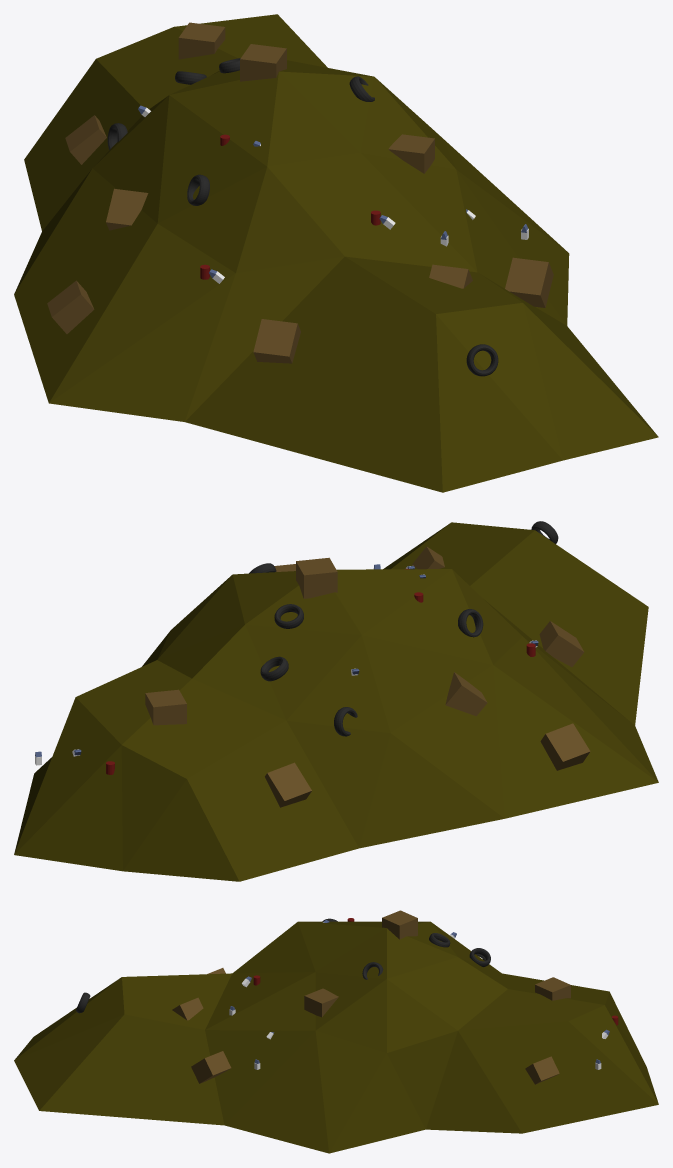
File: TrashPile2.fbx
3 views of the same model, one above another, from view 1: azimuth 30°, elevation 25°; view 2: azimuth 150°, elevation 25°; view 3: azimuth 270°, elevation 25° (orthographic). The views are drawn at different scales.
Visible parts, largest first — view 1: Icosphere.001, Cube.3886, Cube.3881, Cube.3873, Cube.3894, Cube.3892, Cube.3874, Cube.3862, Cube.3893, Cube.3876; view 2: Icosphere.001, Cube.3894, Cube.3873, Cube.3893, Cube.3892, Cube.3881, Cube.3874; view 3: Icosphere.001, Cube.3886, Cube.3873, Cube.3862, Cube.3892, Cube.3891, Cube.3876.
Boxes of the visible parts, x1,y1,x2,y2 form: Icosphere.001: (14,14,658,492); Cube.3886: (505,257,553,307); Cube.3881: (253,319,300,363); Cube.3873: (240,44,286,81); Cube.3894: (47,280,94,333); Cube.3892: (178,22,225,59); Cube.3874: (106,188,148,230); Cube.3862: (388,134,434,173); Cube.3893: (65,115,106,164); Cube.3876: (429,264,472,288); Icosphere.001: (14,522,658,881); Cube.3894: (540,723,590,770); Cube.3873: (296,557,337,598); Cube.3893: (265,762,311,807); Cube.3892: (145,689,186,725); Cube.3881: (539,621,584,666); Cube.3874: (445,672,487,716); Icosphere.001: (14,921,658,1153); Cube.3886: (191,1051,231,1083); Cube.3873: (382,910,417,939); Cube.3862: (304,988,338,1017); Cube.3892: (535,977,570,1000); Cube.3891: (525,1056,559,1084); Cube.3876: (172,997,203,1020).
Bounding box in the file's own units: 19410 × 7572 × 29201.
